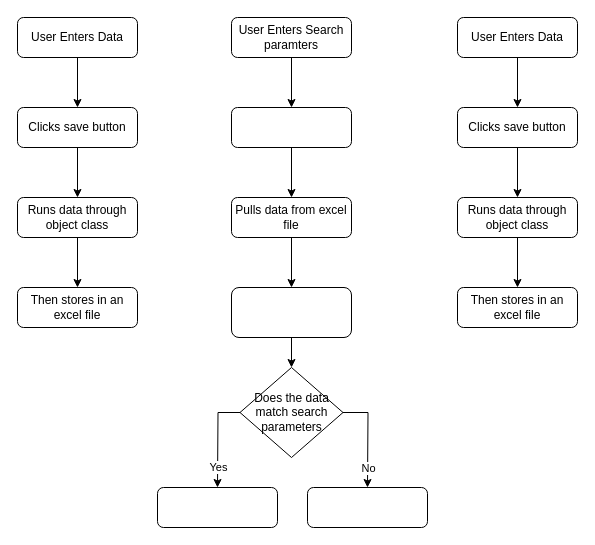
This 595x545 diagram has some shape labels left out. Each missing label, with the centre of its shape:
Clicks Search & view button: point 291,127
Displays an Error: point 367,507
Displays Data: point 217,507
Runs data through object class and search paramaters: point 291,312
